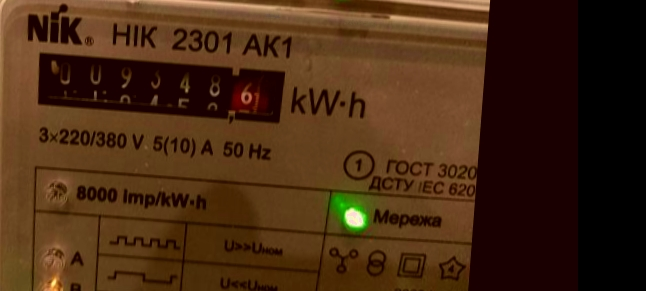0: (55, 59, 73, 86), (86, 58, 102, 85)
3: (147, 64, 163, 90)
4: (174, 64, 194, 95)
6: (236, 77, 255, 107)
8: (206, 69, 223, 98)
9: (117, 64, 133, 92)
screen: (16, 36, 299, 135)
